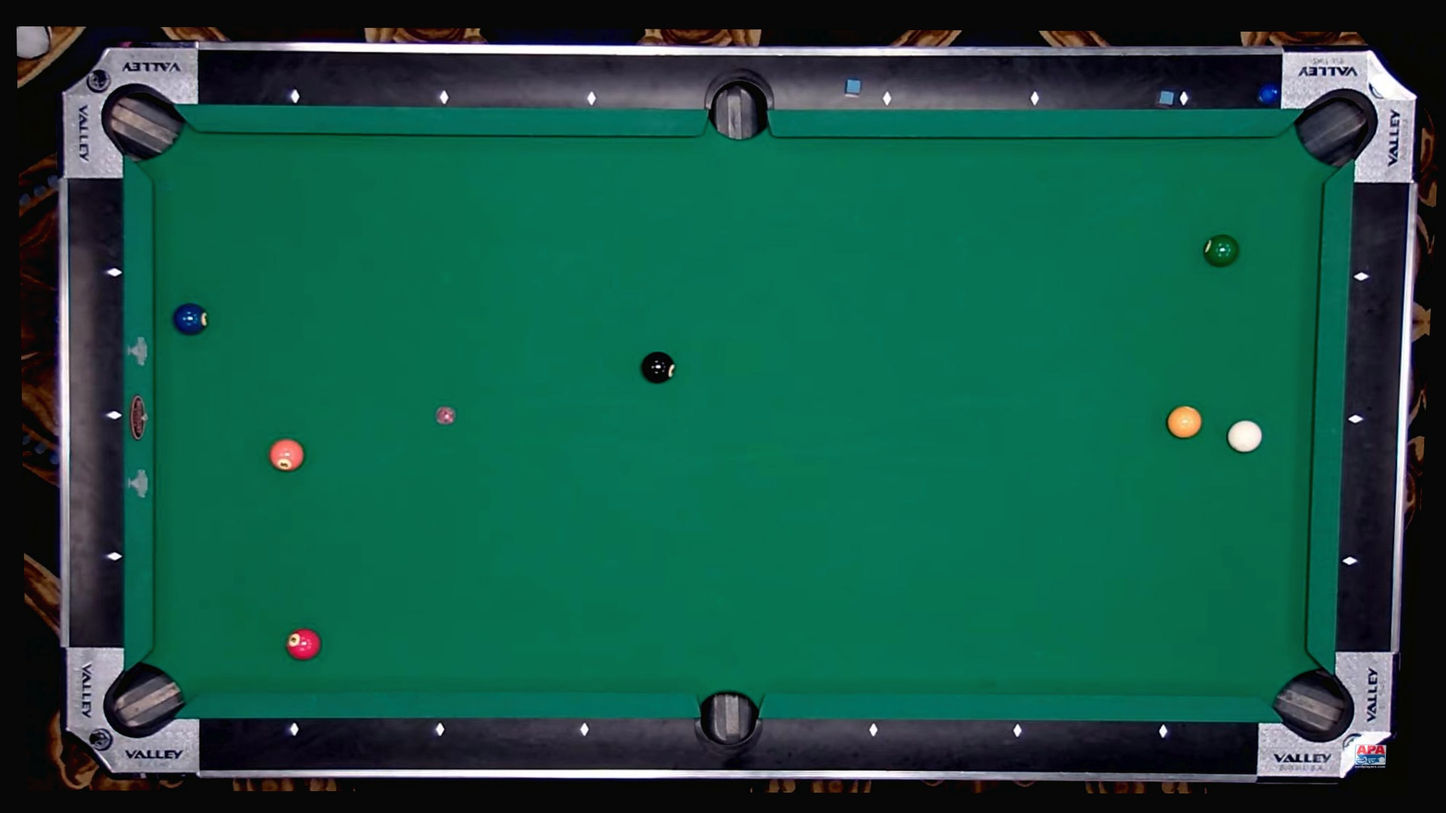Black: (109, 409, 120, 420), (108, 266, 119, 277), (290, 91, 301, 102), (1178, 93, 1189, 104), (1355, 271, 1366, 282), (434, 724, 445, 735), (586, 94, 596, 105), (882, 93, 892, 104), (1030, 93, 1040, 104), (1351, 414, 1362, 424), (1157, 726, 1167, 737), (1011, 725, 1021, 736), (578, 724, 589, 734), (109, 552, 119, 562), (439, 94, 449, 104), (1345, 557, 1355, 567), (868, 725, 878, 735), (289, 725, 299, 735)
Cue: (1204, 233, 1240, 268), (286, 627, 322, 661), (269, 438, 304, 472), (174, 302, 209, 336), (1167, 405, 1202, 438)
Solid: (640, 351, 677, 384)
Stripe: (1226, 419, 1263, 453)
